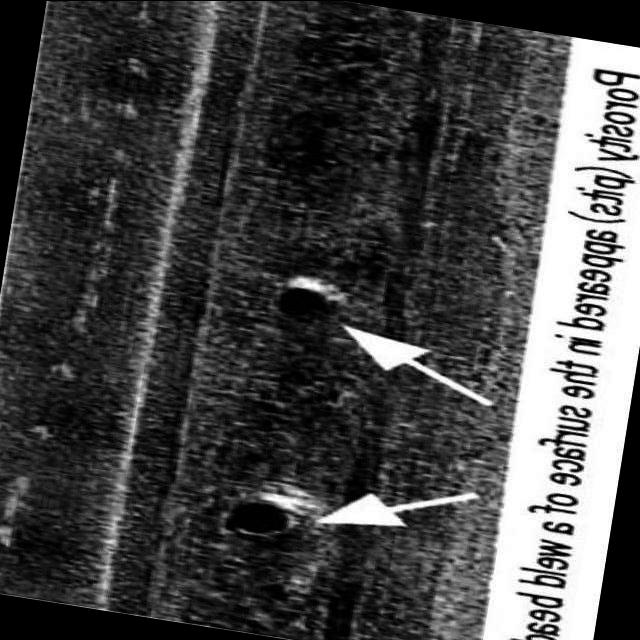defect: (249, 268, 337, 331), (215, 496, 310, 541)
